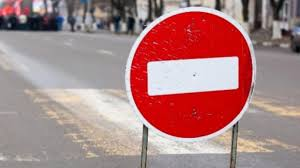No entry: (125, 7, 256, 143)
